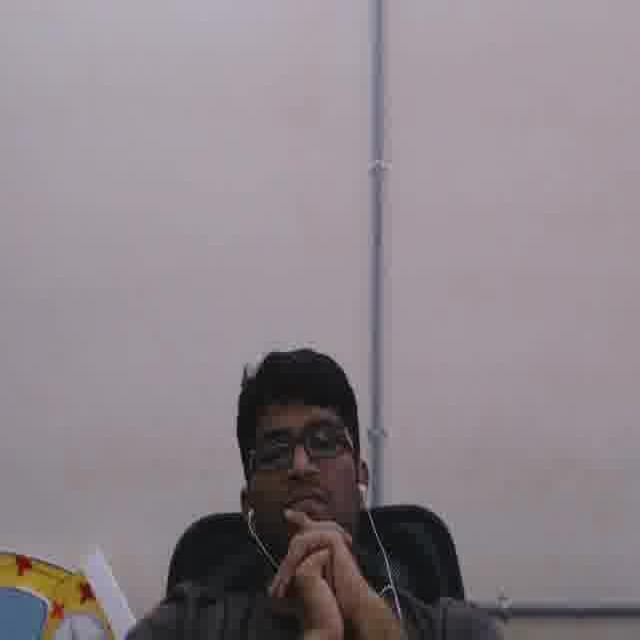Boredom: (246, 382, 351, 550)
